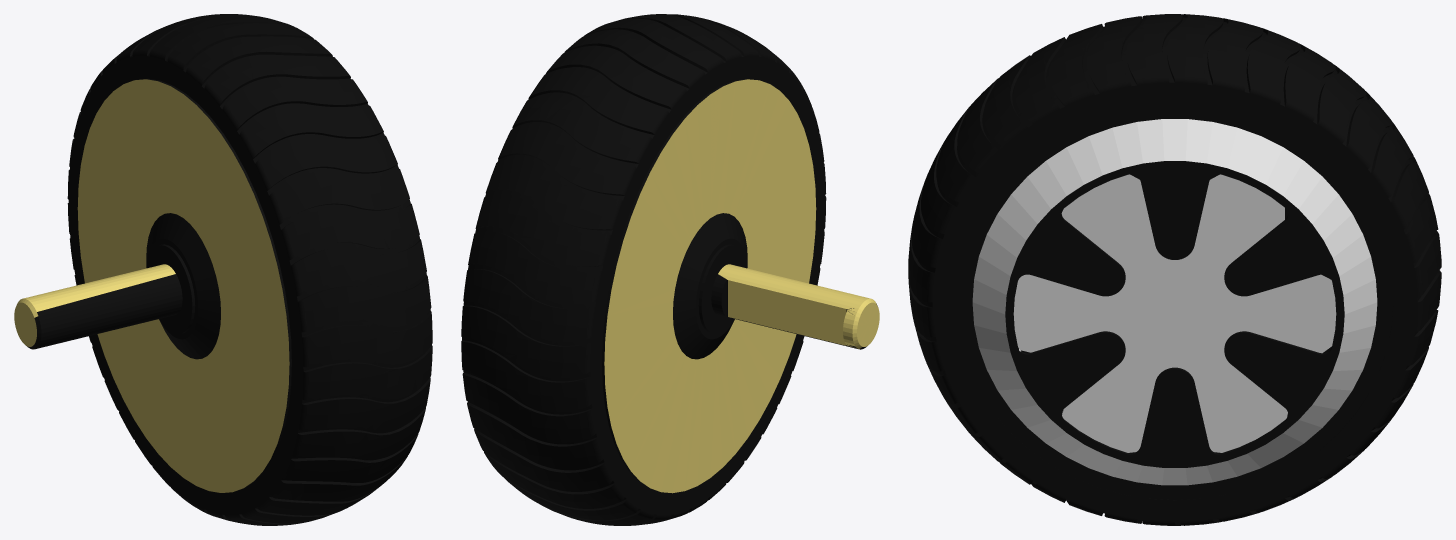
The model's file is banhphai.dae.
The picture shows the model from 3 angles, left to right: view 1: azimuth 30°, elevation 25°; view 2: azimuth 150°, elevation 25°; view 3: azimuth 270°, elevation 25°; orthographic projection. The views are drawn at different scales.
Parts seen in each view (by area): view 1: Banh Phai; view 2: Banh Phai; view 3: Banh Phai.
Part boxes in pixels (x1,y1,x2,y2): Banh Phai: (14, 14, 432, 525); Banh Phai: (461, 14, 879, 525); Banh Phai: (908, 14, 1441, 525).
Size of the model in its own units: 0.111 by 0.1587 by 0.1587.
